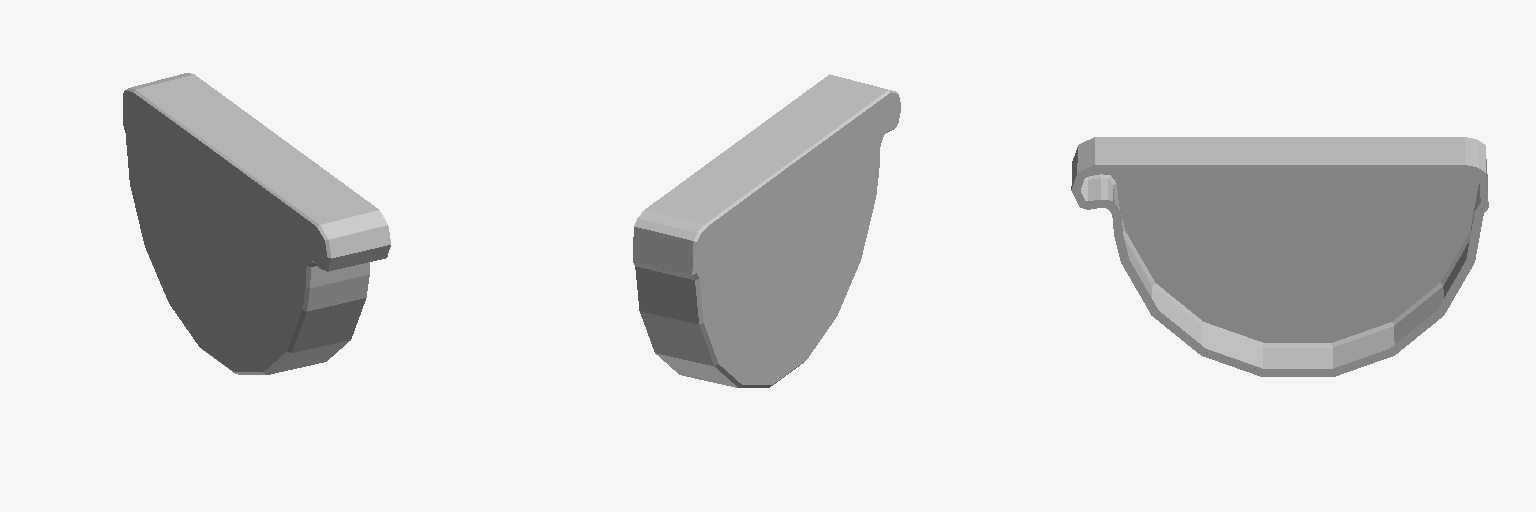
The model's file is end_left.obj.
3 renders of one model, left to right at view 1: azimuth 30°, elevation 25°; view 2: azimuth 150°, elevation 25°; view 3: azimuth 270°, elevation 25°, orthographic.
Parts seen in each view (by area): view 1: end_left; view 2: end_left; view 3: end_left.
Boxes of the visible parts, x1=… form: end_left: x1=123, y1=73, x2=390, y2=374; end_left: x1=633, y1=74, x2=900, y2=387; end_left: x1=1071, y1=137, x2=1488, y2=376.
Bounding box in the file's own units: 25.75 × 84.49 × 150.